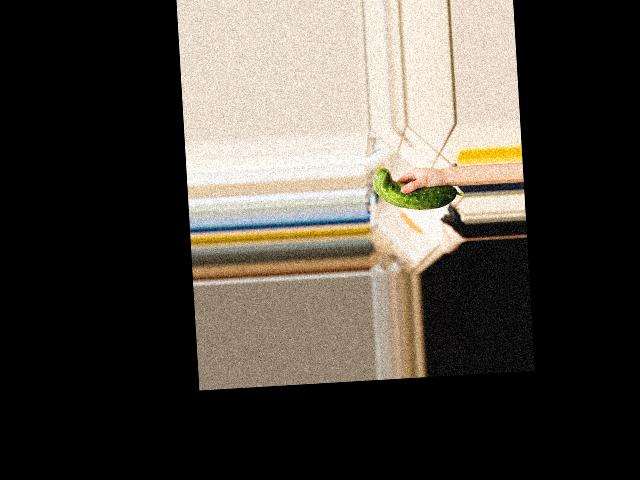cucumber: (372, 163, 463, 213)
